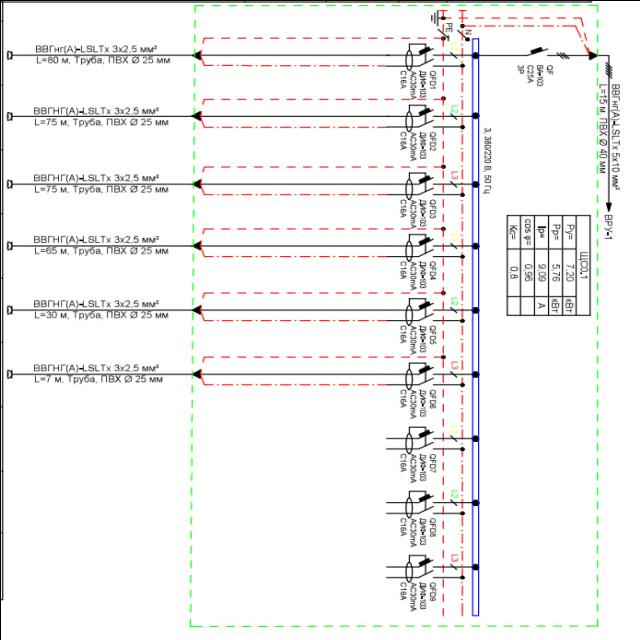-: (394, 258, 428, 292), (394, 580, 428, 614), (396, 322, 429, 357), (396, 67, 429, 101), (393, 516, 426, 550), (396, 451, 429, 485), (395, 386, 428, 420), (396, 130, 428, 164), (396, 198, 428, 232), (514, 62, 544, 88), (576, 249, 588, 281)
QF: (525, 44, 551, 60)
QFD: (403, 168, 459, 200), (402, 359, 458, 391), (402, 422, 458, 454), (402, 552, 458, 584), (402, 101, 458, 133), (402, 40, 458, 72), (404, 296, 460, 328), (402, 231, 458, 263), (404, 486, 459, 518)
